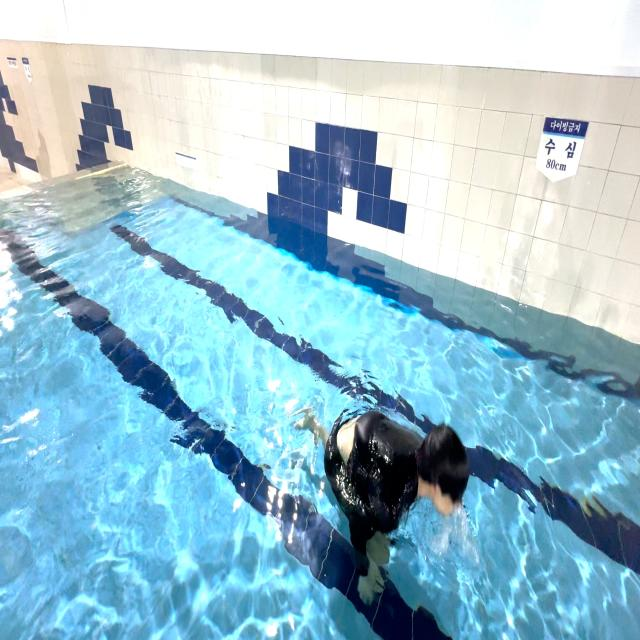Swimming: (296, 392, 472, 608)
